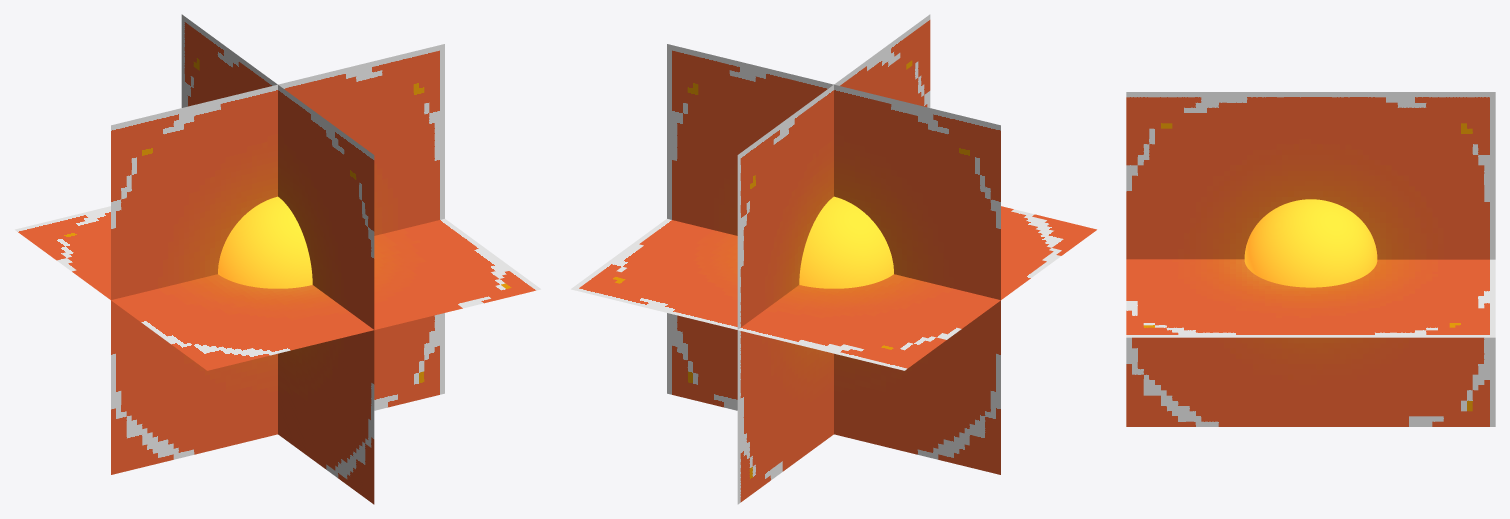
The model's file is glow-ball-sun.fbx.
3 views of the same model, side by side, from view 1: azimuth 30°, elevation 25°; view 2: azimuth 150°, elevation 25°; view 3: azimuth 270°, elevation 25° (orthographic). The views are drawn at different scales.
Parts seen in each view (by area): view 1: Icosphere; view 2: Icosphere; view 3: Icosphere.
Part boxes in pixels (box(x1,y1,x2,y2)): Icosphere: box(15, 14, 540, 504); Icosphere: box(571, 14, 1096, 504); Icosphere: box(1126, 92, 1495, 426).
Size of the model in its own units: 200 by 200 by 200.
Materials: 3 (1 with a texture image).
